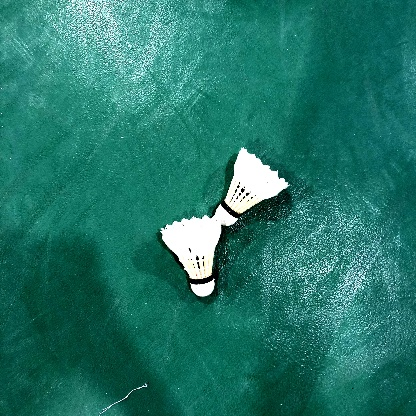ball_single: (215, 147, 290, 226), (160, 215, 222, 297)
